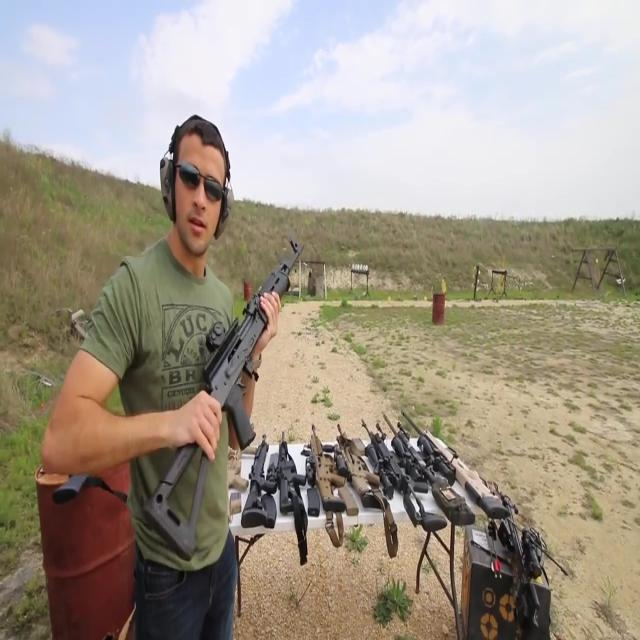Weapon: (194, 381, 571, 609), (114, 205, 336, 577), (0, 402, 141, 540)
